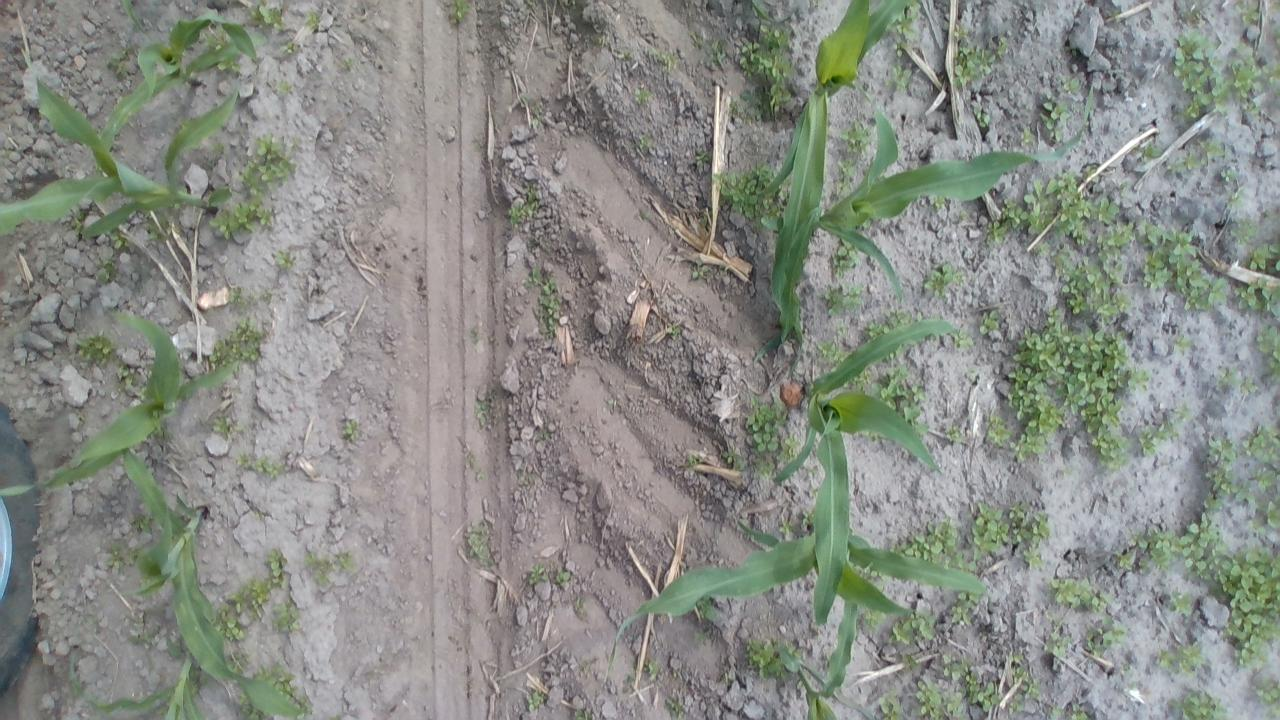Maize: (752, 66, 1096, 322), (768, 318, 955, 632), (610, 516, 992, 666), (765, 3, 908, 354), (117, 449, 300, 716), (0, 307, 240, 495), (2, 60, 243, 242), (101, 6, 268, 152), (781, 600, 869, 718), (80, 654, 208, 718), (747, 0, 802, 30), (120, 0, 154, 37)
Weeds: (1004, 311, 1148, 471), (1116, 435, 1235, 569), (1212, 541, 1280, 670), (1136, 222, 1226, 306), (1020, 174, 1126, 244), (725, 24, 794, 126), (968, 498, 1050, 570), (1054, 244, 1130, 320), (718, 164, 783, 225), (1172, 28, 1224, 94), (238, 134, 296, 193), (1138, 402, 1190, 458), (892, 518, 958, 558), (952, 41, 1008, 88), (210, 320, 263, 368), (209, 188, 265, 233), (1008, 646, 1040, 718), (1049, 576, 1113, 612), (745, 400, 788, 452), (1208, 362, 1262, 401), (1166, 136, 1224, 172), (1230, 56, 1266, 110), (508, 88, 549, 133), (1166, 690, 1226, 718), (222, 282, 274, 314), (99, 536, 142, 574), (914, 680, 954, 720), (642, 46, 684, 84), (892, 610, 938, 644), (1083, 620, 1125, 657), (1243, 423, 1280, 464), (964, 674, 1002, 713), (1042, 94, 1072, 142), (1236, 278, 1276, 314), (124, 606, 156, 650), (209, 408, 249, 443), (924, 262, 964, 296), (75, 330, 114, 364), (824, 282, 865, 314), (111, 358, 142, 400), (746, 640, 782, 675), (459, 447, 492, 484), (90, 252, 121, 289), (949, 592, 982, 626), (143, 217, 183, 245), (254, 664, 294, 692), (506, 189, 537, 225), (466, 520, 491, 564), (236, 451, 280, 476), (896, 4, 926, 40), (1044, 622, 1074, 658), (1253, 677, 1279, 718), (746, 454, 782, 483), (692, 34, 724, 66), (999, 197, 1030, 230), (832, 243, 858, 282), (304, 551, 330, 588), (526, 264, 558, 294), (248, 0, 282, 28), (111, 47, 135, 86), (128, 509, 158, 540), (939, 654, 970, 684), (1245, 242, 1277, 271), (537, 293, 559, 335), (266, 548, 288, 588), (272, 600, 300, 631), (1249, 465, 1280, 493), (246, 578, 270, 614), (522, 685, 548, 718), (1175, 640, 1203, 670), (216, 610, 244, 640), (720, 446, 750, 474), (880, 366, 904, 401), (512, 454, 536, 488), (226, 648, 254, 676), (1056, 72, 1086, 98), (844, 123, 873, 149), (906, 404, 932, 433), (987, 415, 1011, 446), (1252, 500, 1278, 528), (1256, 323, 1276, 359), (334, 542, 356, 574), (1182, 0, 1214, 22), (1153, 646, 1178, 674), (336, 52, 362, 78), (1267, 332, 1280, 384), (1234, 216, 1259, 243), (776, 436, 800, 464), (105, 228, 133, 252), (692, 140, 712, 173), (834, 157, 854, 190), (1170, 588, 1194, 615), (942, 421, 966, 448), (1170, 330, 1194, 356), (1210, 77, 1228, 111), (468, 318, 487, 350), (68, 208, 88, 238), (338, 416, 361, 442), (978, 310, 1001, 336), (227, 585, 249, 612), (237, 698, 264, 720), (879, 697, 906, 719), (950, 324, 974, 348), (1236, 0, 1260, 24), (584, 26, 608, 50), (268, 76, 294, 98), (579, 655, 601, 681), (1184, 93, 1205, 120), (698, 596, 718, 624), (553, 562, 572, 591), (820, 340, 846, 360), (474, 394, 494, 420), (832, 318, 854, 341), (679, 453, 703, 474), (630, 82, 651, 106), (666, 318, 685, 344), (687, 253, 706, 279), (1067, 701, 1093, 720), (951, 18, 970, 44), (891, 66, 913, 88), (988, 219, 1008, 243), (1016, 126, 1036, 150), (891, 35, 910, 60), (280, 40, 304, 59), (693, 630, 714, 651), (864, 610, 886, 630), (1232, 485, 1255, 504), (535, 425, 554, 448), (864, 322, 888, 340), (900, 650, 920, 670), (886, 310, 911, 326), (568, 706, 596, 720), (714, 662, 730, 686), (448, 1, 468, 20), (1029, 240, 1052, 256), (1141, 138, 1159, 158), (528, 565, 548, 583), (1082, 162, 1100, 182), (251, 501, 268, 522), (798, 505, 814, 527), (859, 365, 873, 390), (612, 46, 634, 61), (643, 657, 660, 676), (778, 514, 794, 534), (974, 108, 990, 128), (928, 196, 948, 212), (276, 252, 293, 270), (1048, 703, 1066, 720), (306, 10, 321, 30), (667, 700, 684, 717), (572, 594, 586, 614), (954, 206, 970, 222), (636, 134, 652, 148), (324, 712, 350, 720), (702, 212, 712, 229)
